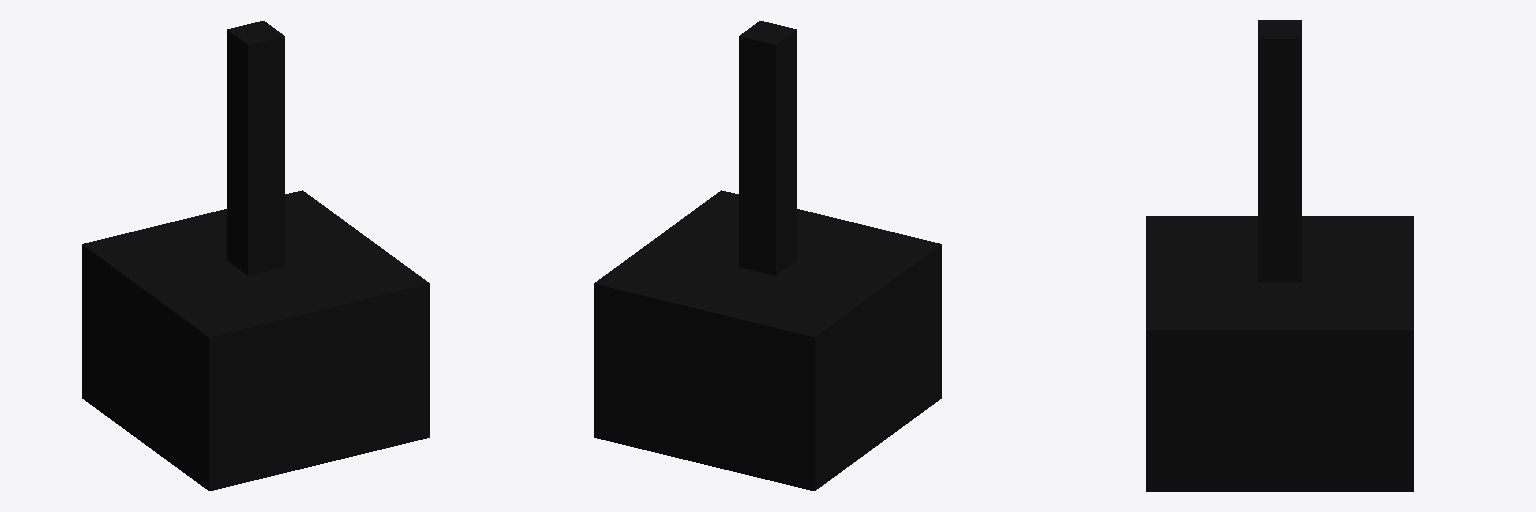
The robot description file, URDF, robot "fanuc_tool_one":
<?xml version="1.0" ?>
<robot name="fanuc_tool_one" xmlns:xacro="http://wiki.ros.org/xacro">
  <link name="gripper_base">
    <visual>
      <origin rpy="0 0 0" xyz="0 0 0.02" />
      <geometry>
        <box size="0.06 0.06 0.04"/>
      </geometry>
      <material name="darkgrey">
        <color rgba="0.1 0.1 0.1 1"/>
      </material>
    </visual>
    <collision>
        <origin rpy="0 0 0" xyz="0 0 0.02" />
        <geometry>
            <box size="0.06 0.06 0.04"/>
        </geometry>
        <material name="darkgrey"/>
    </collision>
  </link>
  <link name="suction_cylinder">
    <visual>
      <origin rpy="0 0 0" xyz="0 0 0.03" />
      <geometry>
        <box size="0.01 0.01 0.06"/>
      </geometry>
      <material name="darkgrey"/>
    </visual>
    <collision>
        <origin rpy="0 0 0" xyz="0 0 0.03" />
        <geometry>
            <box size="0.01 0.01 0.06"/>
        </geometry>
        <material name="darkgrey"/>
    </collision>
  </link>
  <joint name="base_joint" type="fixed">
    <parent link="gripper_base" />
    <child link="suction_cylinder" />
    <origin rpy="0 0 0" xyz="0 0 0.04" />
  </joint>
</robot>

--- What the picture shows (computed from the rendered views, not written in the file) ---
Views: 3 orthographic renders of the robot side by side, from view 1: azimuth 30°, elevation 25°; view 2: azimuth 150°, elevation 25°; view 3: azimuth 270°, elevation 25°.
Model fanuc_tool_one with 2 links and 1 joints (1 fixed), rooted at gripper_base, posed every joint at zero.
Visible links, largest first — view 1: gripper_base, suction_cylinder; view 2: gripper_base, suction_cylinder; view 3: gripper_base, suction_cylinder.
Link boxes in pixels (box(x1,y1,x2,y2)): gripper_base: box(82, 190, 429, 490); suction_cylinder: box(227, 21, 284, 275); gripper_base: box(594, 190, 941, 490); suction_cylinder: box(739, 21, 796, 275); gripper_base: box(1146, 216, 1413, 491); suction_cylinder: box(1258, 20, 1301, 281).
Bounding box of the posed robot: 0.06 × 0.06 × 0.1 m (x, y, z).
Geometry: primitives only (box / cylinder / sphere), no mesh files.